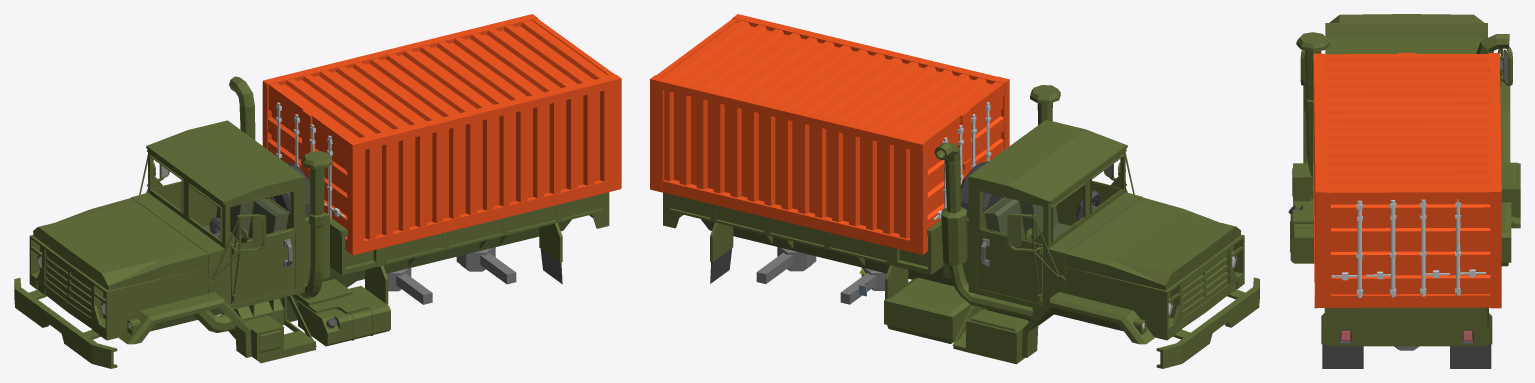
The picture shows the model from 3 angles, left to right: view 1: azimuth 30°, elevation 25°; view 2: azimuth 150°, elevation 25°; view 3: azimuth 270°, elevation 25°; orthographic projection. The views are drawn at different scales.
Parts seen in each view (by area): view 1: Main, Node-Mesh_2, Node-Mesh; view 2: Main, Node-Mesh_2, Node-Mesh; view 3: Node-Mesh_2, Main, Node-Mesh.
Boxes of the visible parts, <box> form: Main: <box>14,76,609,368</box>; Node-Mesh_2: <box>262,14,621,255</box>; Node-Mesh: <box>276,102,344,218</box>; Main: <box>663,85,1259,368</box>; Node-Mesh_2: <box>650,14,1009,254</box>; Node-Mesh: <box>933,102,991,220</box>; Node-Mesh_2: <box>1313,53,1501,308</box>; Main: <box>1288,14,1520,368</box>; Node-Mesh: <box>1331,199,1486,297</box>.
Size of the model in its own units: 7.4 by 2.7 by 2.67.
